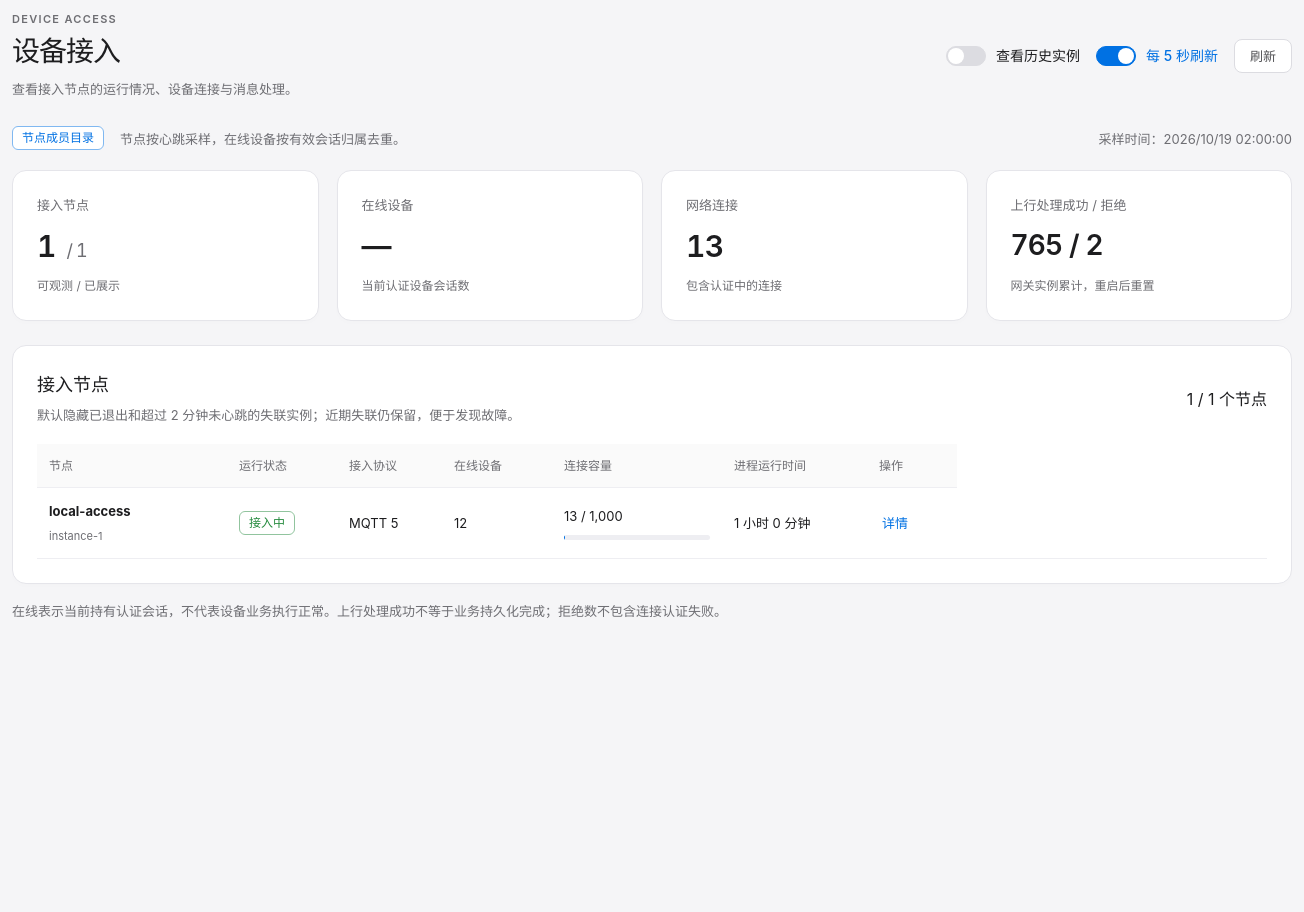
Test: loads historical instances only when requested and keeps current aggregates available
The width and height of the screenshot is (1304, 912).
Expected: the text "old-instance" is not shown
Click the switch named "查看历史实例".
click(1013, 56)  # box [946, 40, 1080, 72]
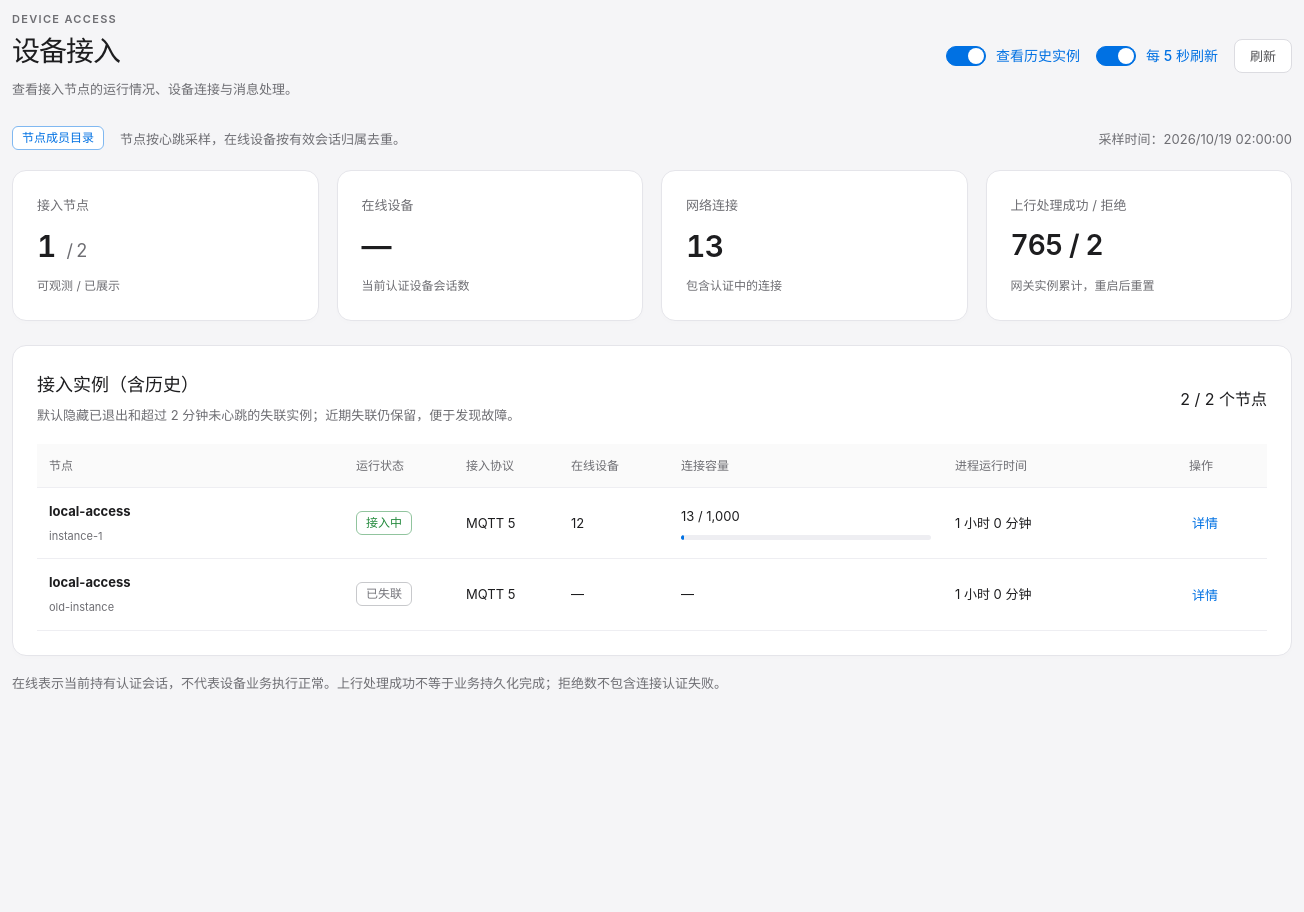
Expected: the text "765 / 2" is shown, [1010, 228, 1103, 262]
Now the text "old-instance" is shown, box [49, 600, 114, 614]
